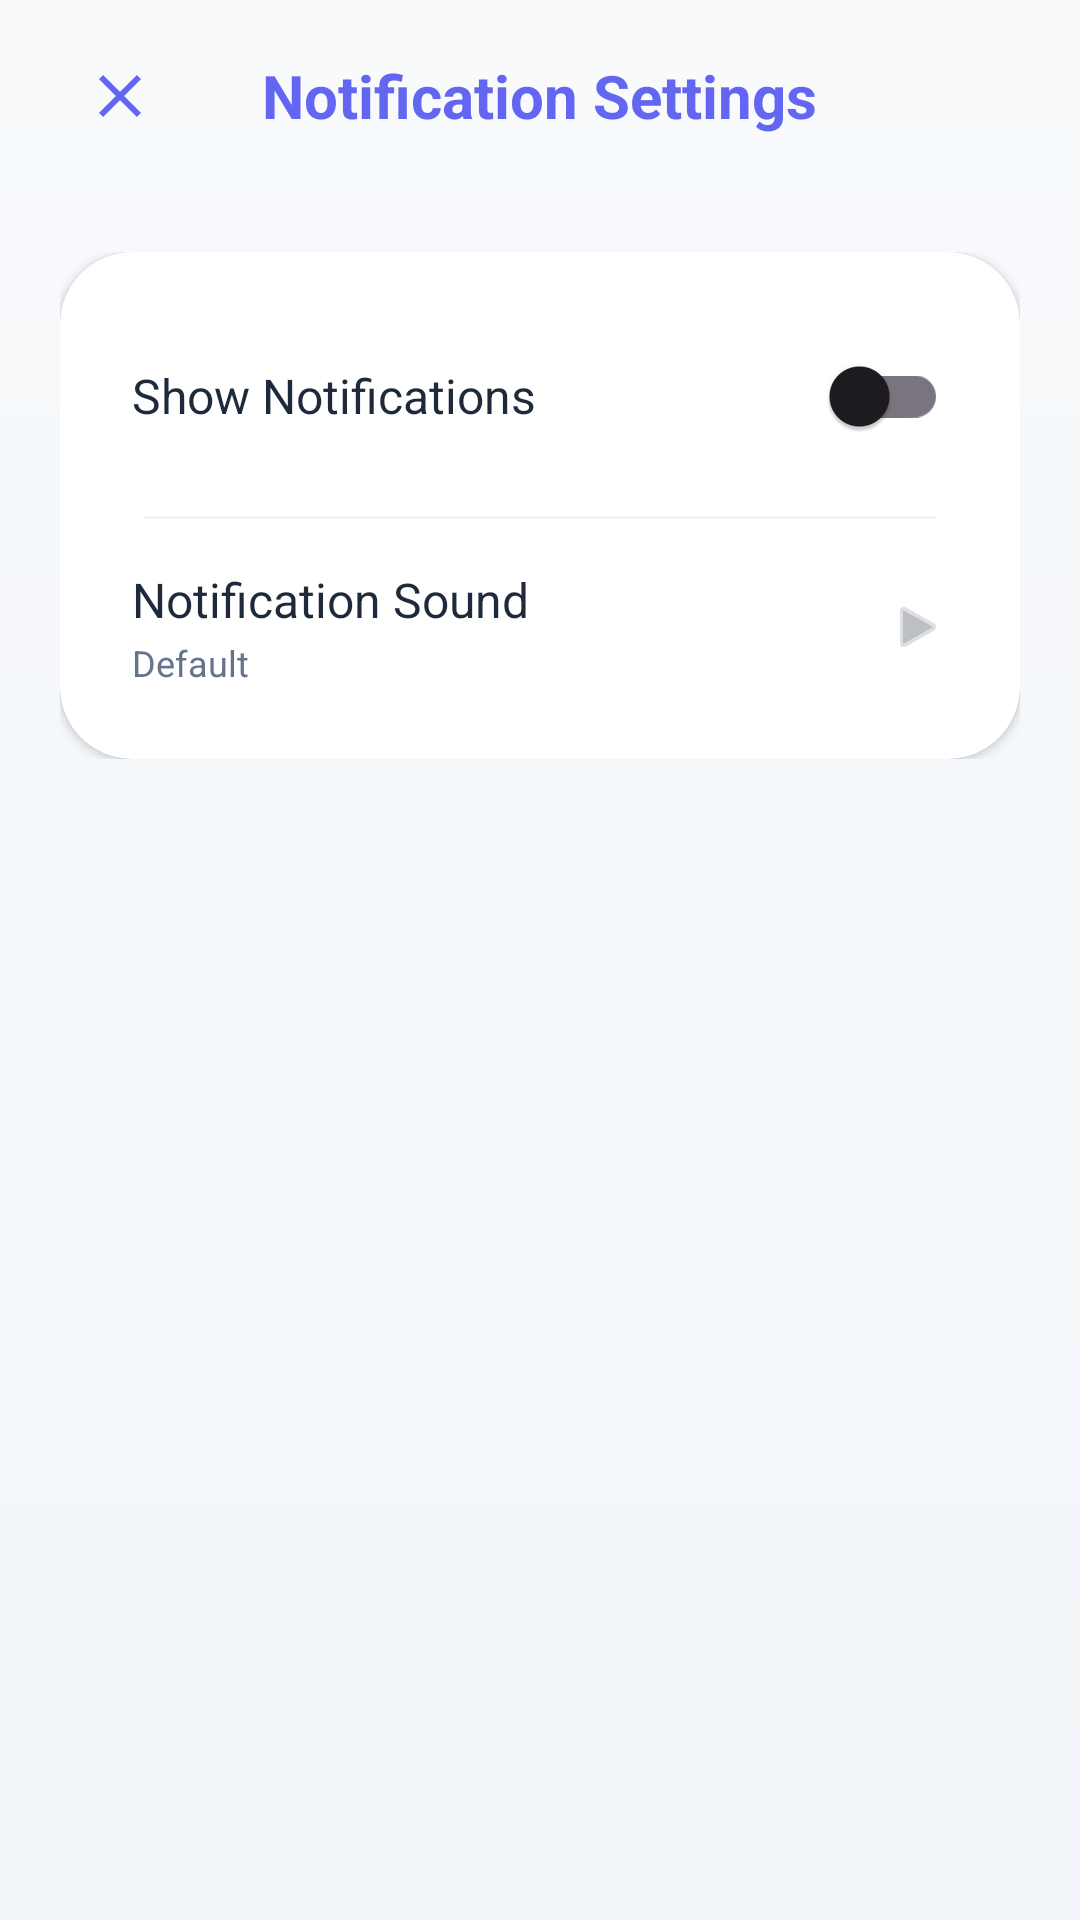

Where to tap for icons on this 1080*1920 app screen, as point (x, y):
close: point (120, 96)
play: point (918, 627)
